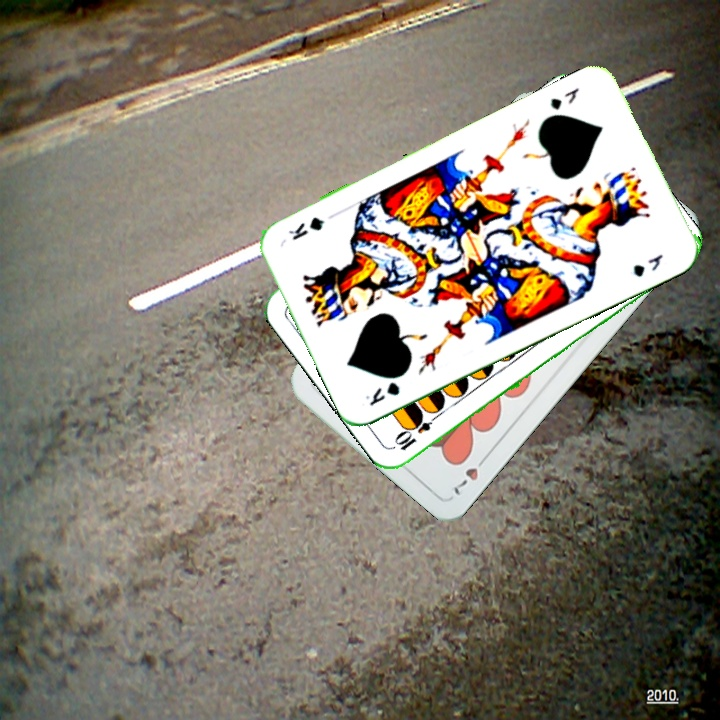E10: (391, 408, 443, 454)
GK: (361, 378, 403, 409), (546, 83, 582, 113)
H7: (449, 450, 492, 498)
